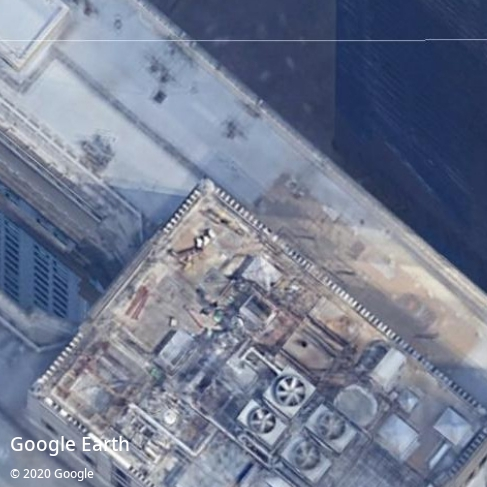Vent: (276, 376, 306, 407), (318, 413, 346, 441), (294, 442, 320, 470), (251, 407, 276, 434)
